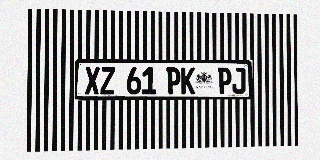1: (142, 67, 156, 94)
6: (127, 67, 141, 94)
J: (232, 67, 246, 94)
K: (181, 67, 195, 94)
P: (166, 67, 181, 94), (218, 67, 231, 94)
X: (85, 67, 100, 95)
Z: (100, 67, 115, 95)
